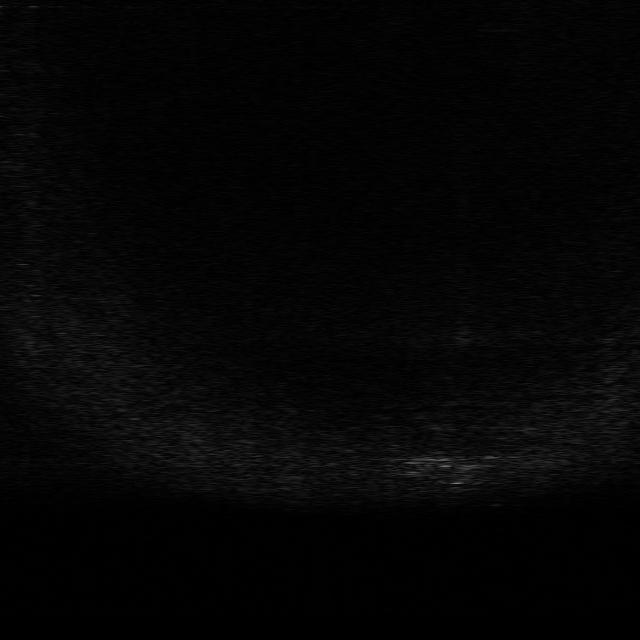plane: (410, 447, 520, 486)
